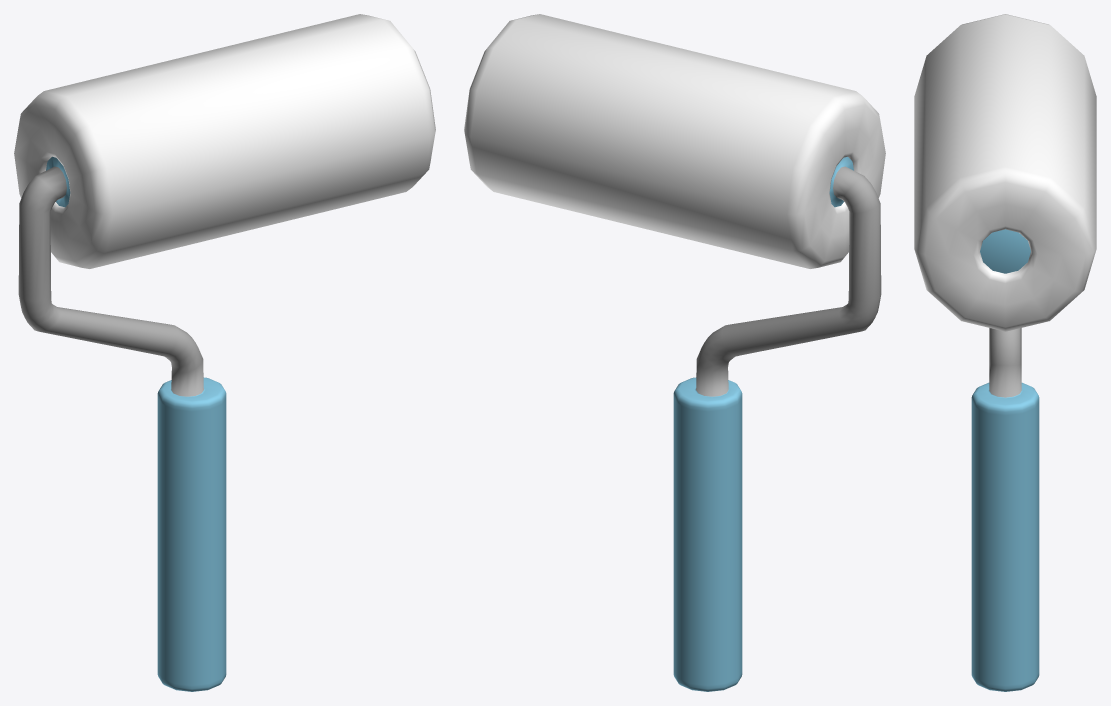
Rendered from PaintRoller.fbx.
3 views of the same model, side by side, from view 1: azimuth 30°, elevation 25°; view 2: azimuth 150°, elevation 25°; view 3: azimuth 270°, elevation 25° (orthographic).
Visible parts, largest first — view 1: Roll, PaintRoller; view 2: Roll, PaintRoller; view 3: Roll, PaintRoller.
Part boxes in pixels (left/top/right/bottom): Roll: left=14, top=14, right=435, bottom=268; PaintRoller: left=18, top=156, right=226, bottom=691; Roll: left=464, top=14, right=885, bottom=268; PaintRoller: left=673, top=156, right=881, bottom=691; Roll: left=914, top=14, right=1096, bottom=331; PaintRoller: left=971, top=229, right=1039, bottom=691.
Size of the model in its own units: 33.54 by 52.46 by 14.34.
1 material, 1 textured.
